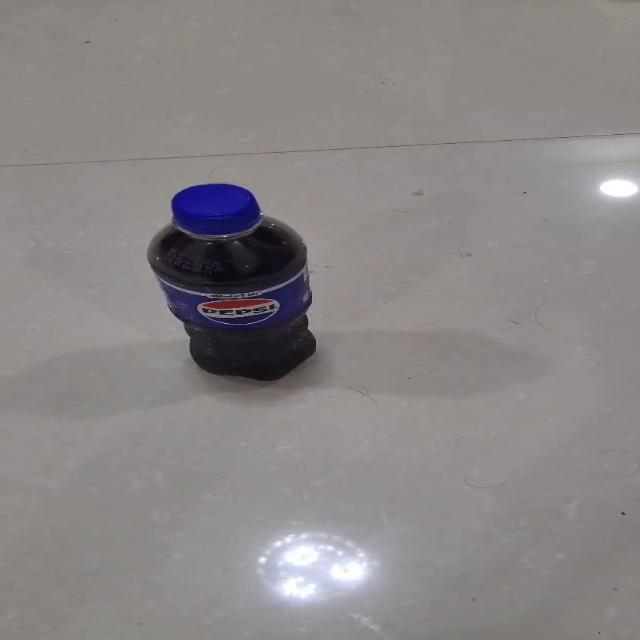plastic: (145, 182, 317, 381)
